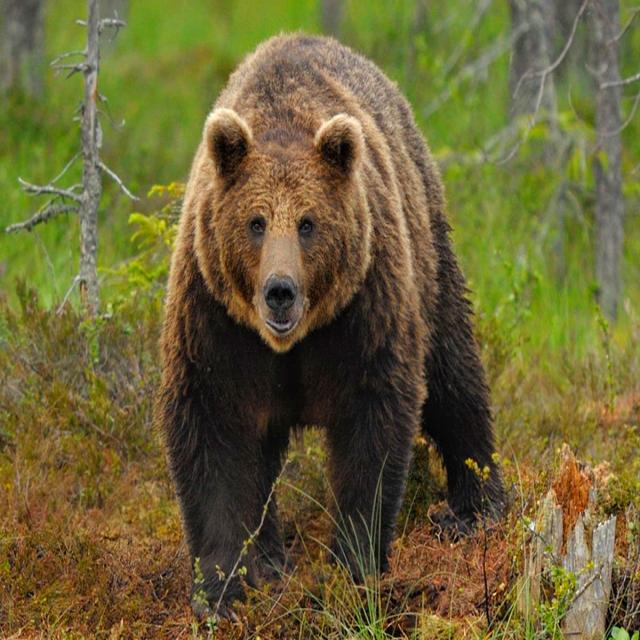bear: (157, 34, 494, 614)
